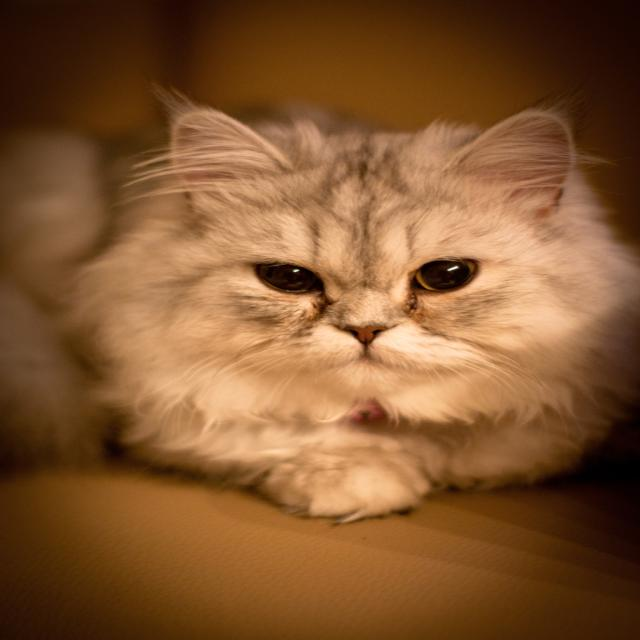Cat: (0, 89, 638, 527)
